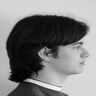ear: (32, 40, 60, 66)
